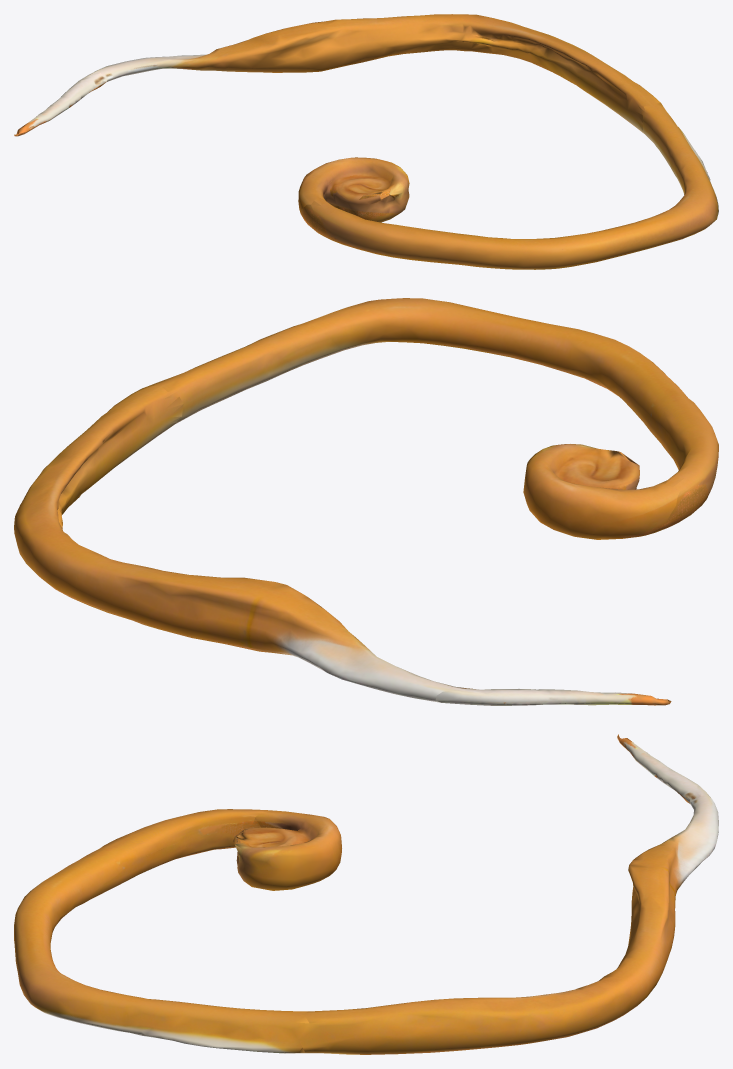
File: ascaris-lumbricoides_A.glb
The picture shows the model from 3 angles, top to bottom: view 1: azimuth 30°, elevation 25°; view 2: azimuth 150°, elevation 25°; view 3: azimuth 270°, elevation 25°; orthographic projection. The views are drawn at different scales.
Parts seen in each view (by area): view 1: ExtAnt_mesh, ExtPost_mesh, Cola_mesh, Cabeza_mesh; view 2: ExtAnt_mesh, ExtPost_mesh, Cola_mesh, Cabeza_mesh; view 3: ExtAnt_mesh, ExtPost_mesh, Cola_mesh, Cabeza_mesh.
Boxes of the visible parts, x1,y1,x2,y2 form: ExtAnt_mesh: [95, 14, 660, 133]; ExtPost_mesh: [14, 103, 718, 269]; Cola_mesh: [298, 157, 409, 222]; Cabeza_mesh: [14, 70, 107, 136]; ExtAnt_mesh: [14, 386, 454, 702]; ExtPost_mesh: [144, 298, 718, 532]; Cola_mesh: [523, 444, 684, 539]; Cabeza_mesh: [435, 686, 671, 705]; ExtAnt_mesh: [296, 794, 718, 1054]; ExtPost_mesh: [14, 739, 619, 1053]; Cola_mesh: [233, 810, 341, 890]; Cabeza_mesh: [617, 734, 710, 804].
Size of the model in its own units: 0.9775 by 0.0859 by 0.981.
Materials: 1 (1 with a texture image).
